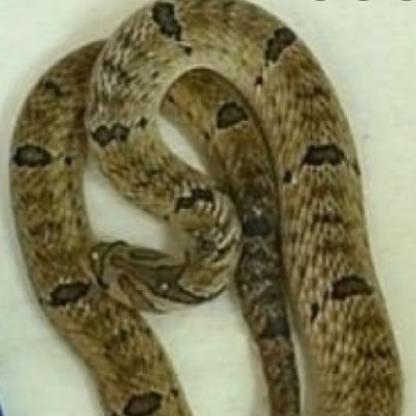snakes: (15, 0, 404, 416)
